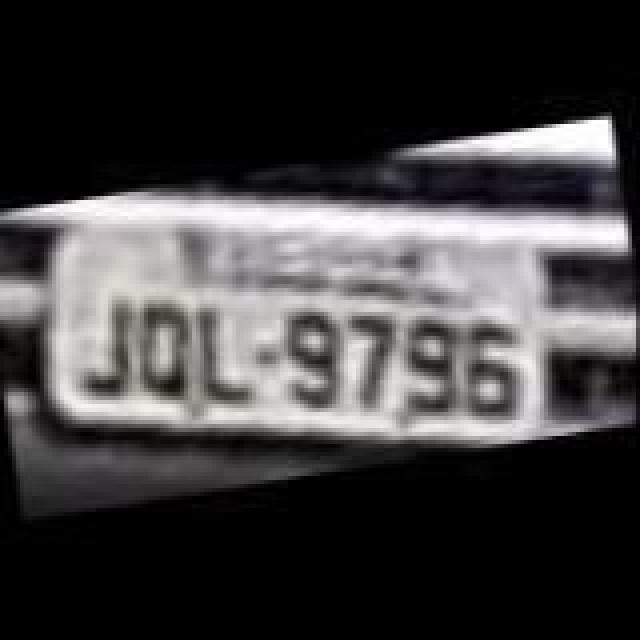6: (452, 312, 528, 424)
7: (334, 302, 414, 418)
9: (398, 308, 478, 424), (274, 304, 354, 416)
J: (70, 292, 142, 404)
L: (182, 294, 262, 414)
O: (128, 298, 204, 410)
